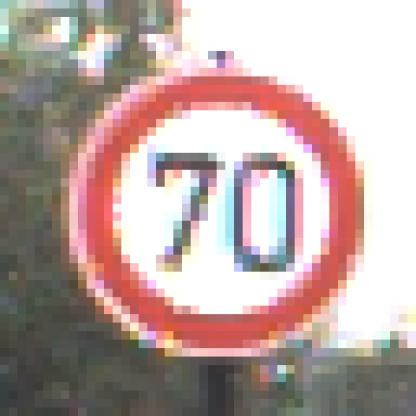Speed Limit 70: (76, 72, 365, 349)
